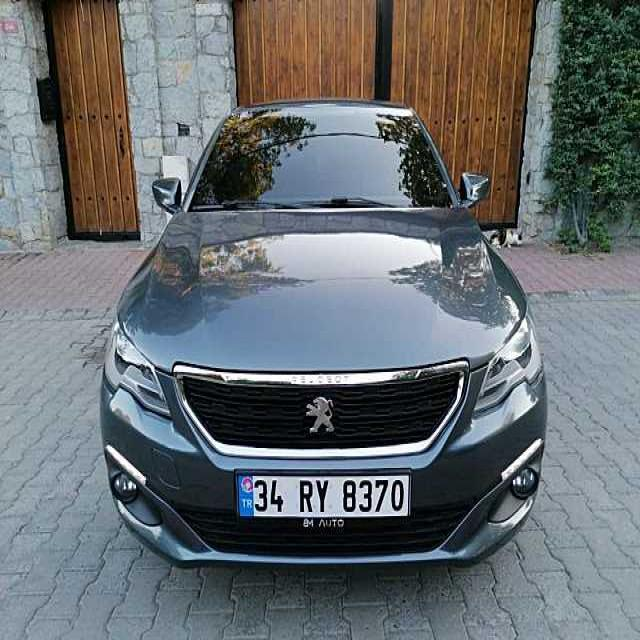plate: (235, 470, 412, 519)
